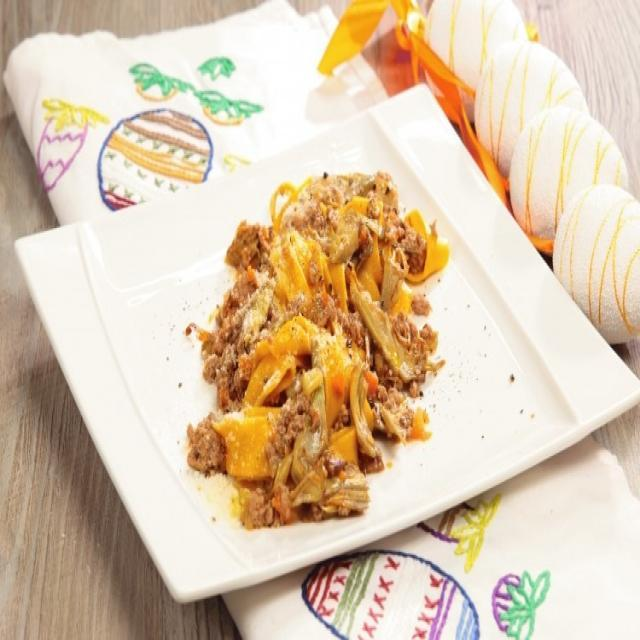Pasta al ragu: (179, 126, 511, 558)
